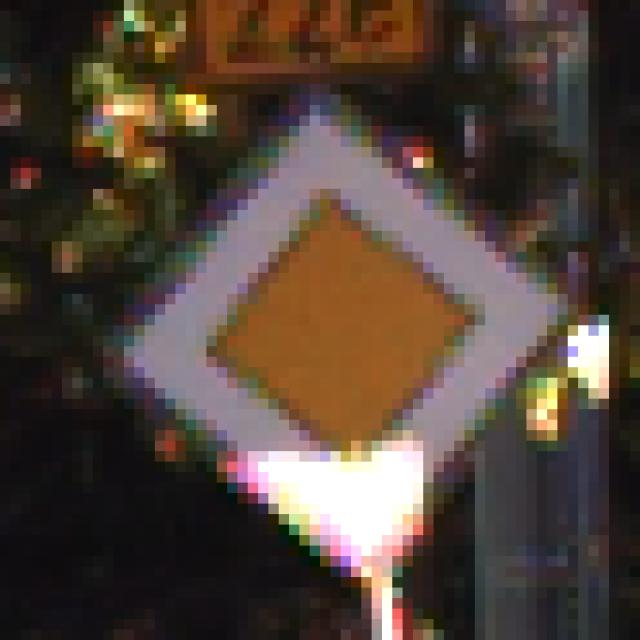Main Road: (63, 64, 579, 588)
